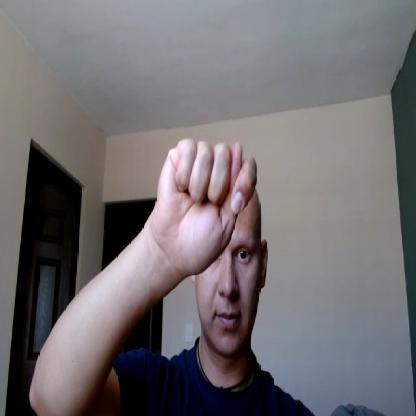T: (155, 136, 259, 273)
